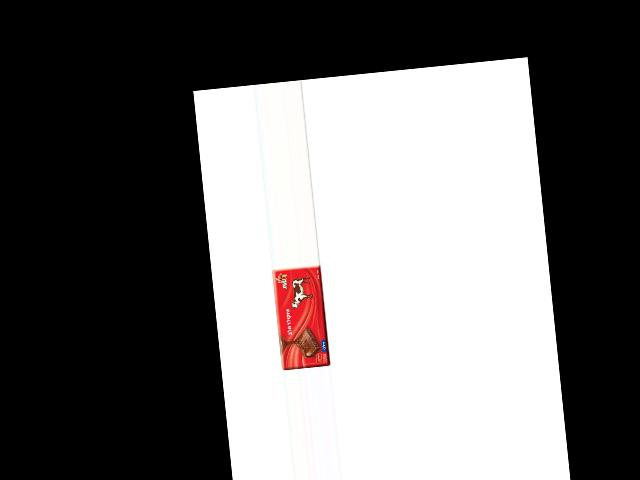chocolate: (271, 264, 330, 371)
